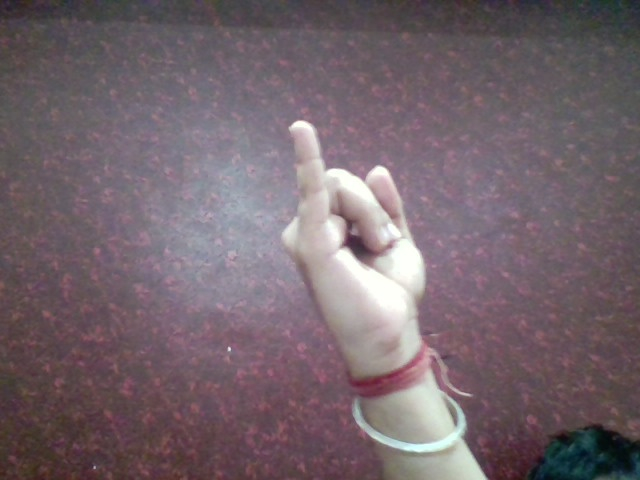j: (258, 113, 454, 354)
